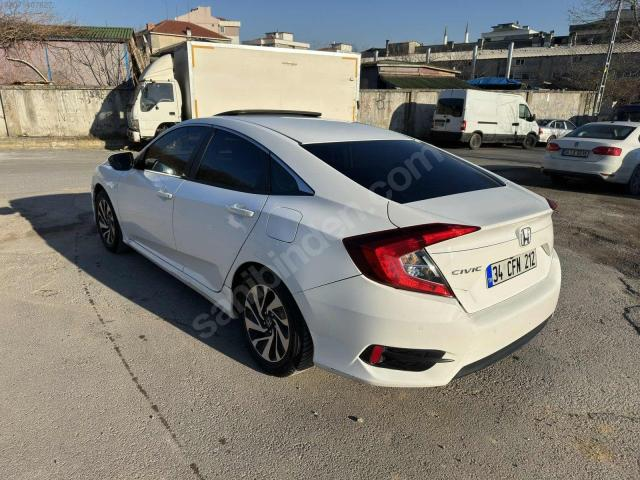plaka: (486, 251, 535, 288)
